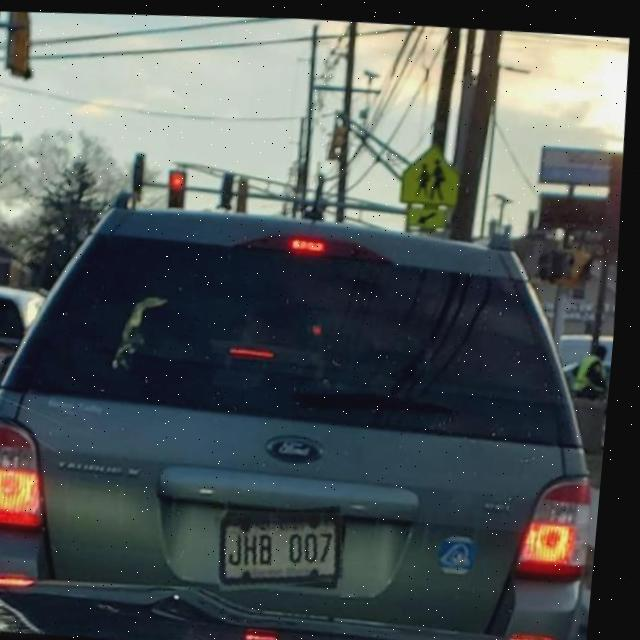LicensePlate: (229, 509, 351, 580)
